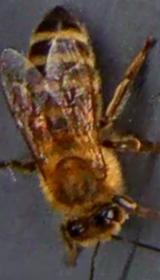varroa_mite: (24, 104, 46, 138)
